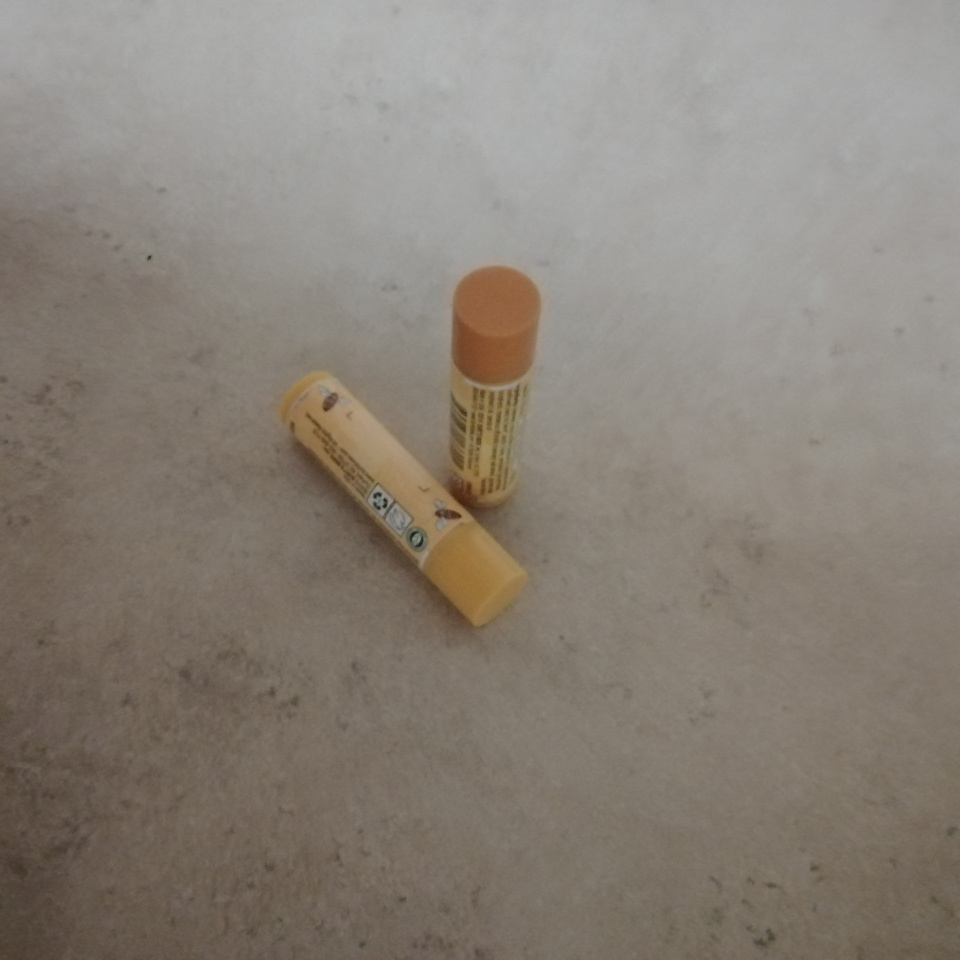chapstick: (280, 368, 530, 629), (449, 265, 540, 508)
